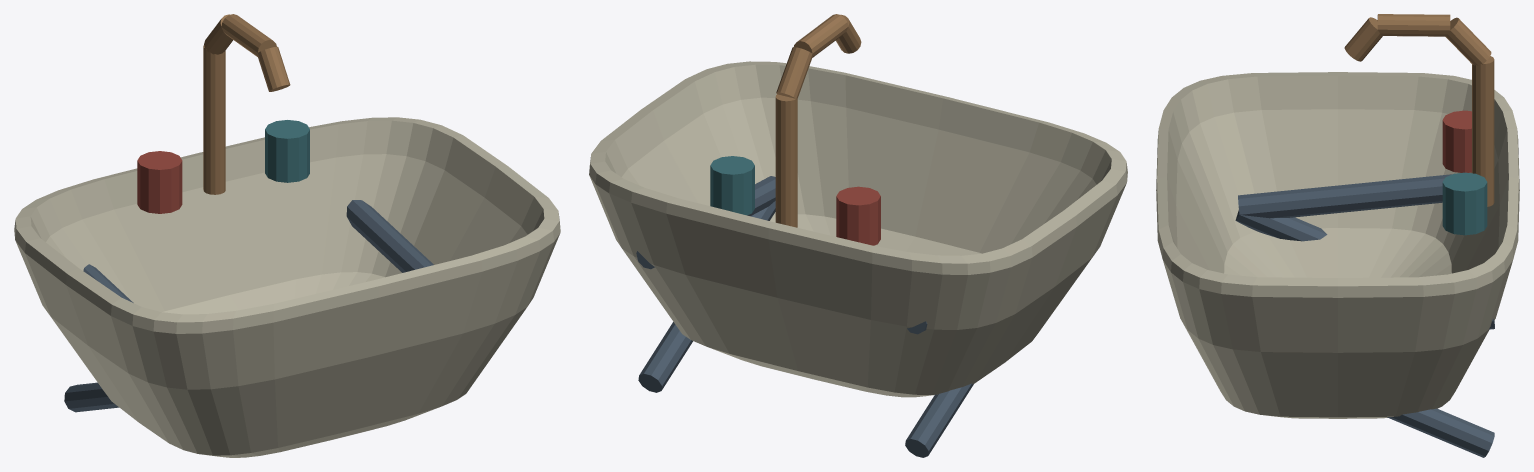
The model's file is W-05_laundry_sink.glb.
3 renders of one model, left to right at view 1: azimuth 30°, elevation 25°; view 2: azimuth 150°, elevation 25°; view 3: azimuth 270°, elevation 25°, orthographic.
Visible parts, largest first — view 1: W-05_laundry_sink; view 2: W-05_laundry_sink; view 3: W-05_laundry_sink.
Part boxes in pixels (box(x1,y1,x2,y2)): W-05_laundry_sink: box(14, 14, 560, 457); W-05_laundry_sink: box(589, 14, 1127, 457); W-05_laundry_sink: box(1156, 14, 1519, 457).
Bounding box in the file's own units: 0.59 × 0.4795 × 0.421.
